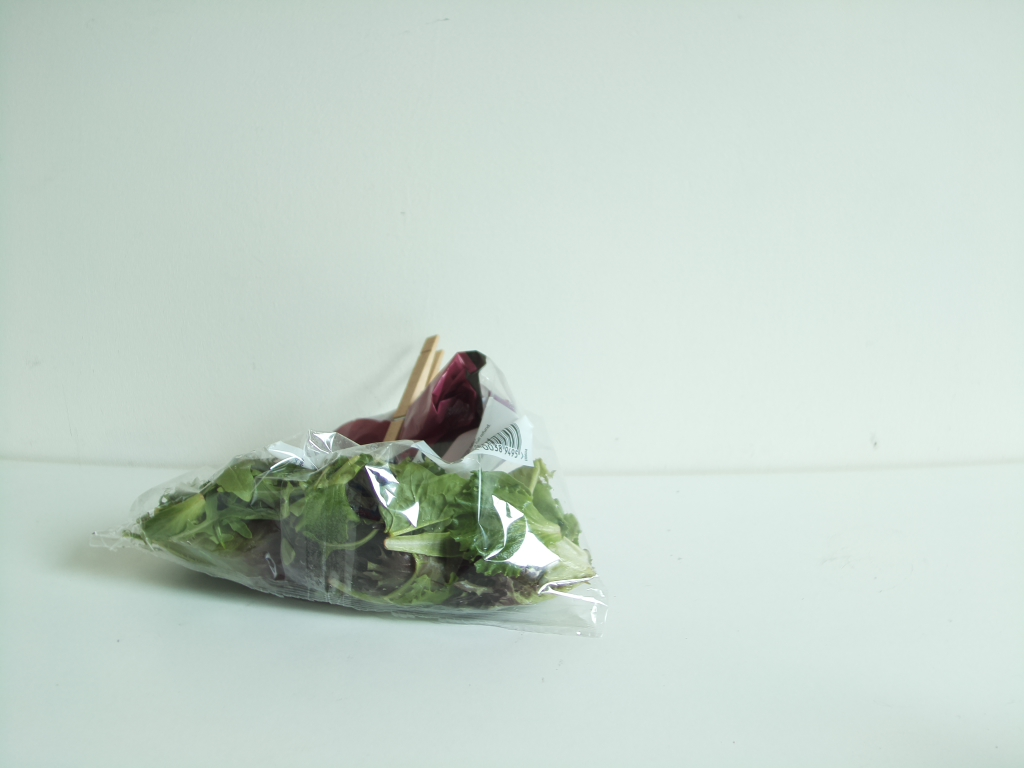salad: (126, 359, 617, 628)
